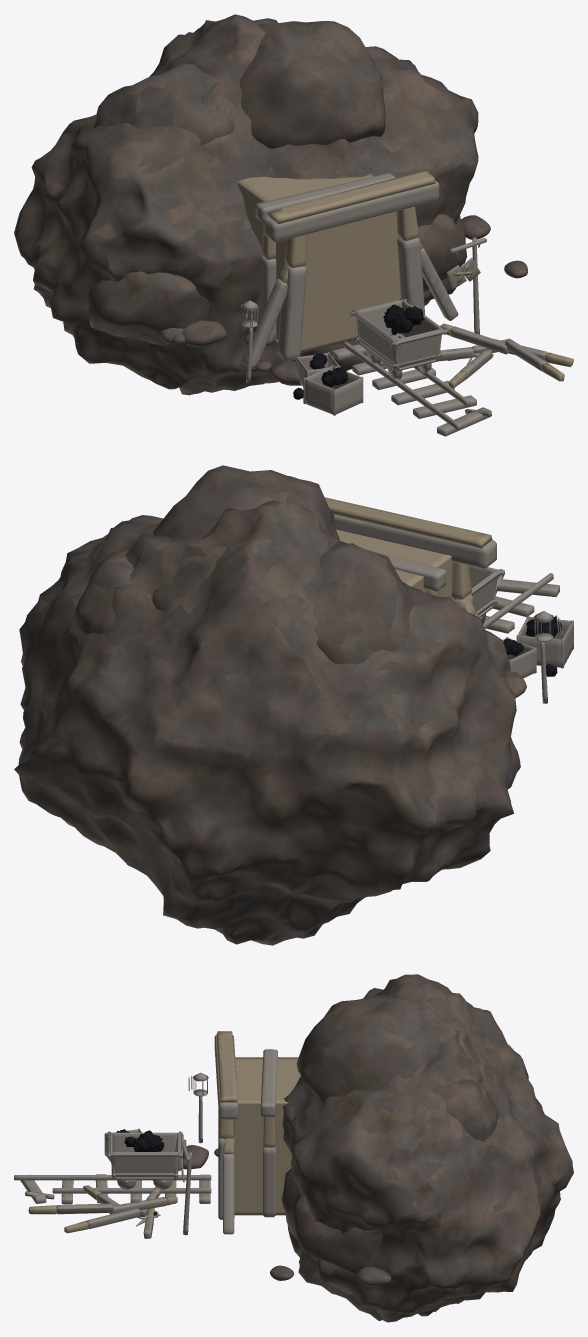
File: mine_head.glb
The picture shows the model from 3 angles, top to bottom: view 1: azimuth 30°, elevation 25°; view 2: azimuth 150°, elevation 25°; view 3: azimuth 270°, elevation 25°; orthographic projection. The views are drawn at different scales.
Parts seen in each view (by area): view 1: mine_head; view 2: mine_head; view 3: mine_head.
Part boxes in pixels (x1,y1,x2,y2): mine_head: (14, 14, 573, 436); mine_head: (14, 465, 573, 945); mine_head: (14, 974, 573, 1322).
Bounding box in the file's own units: 9.78 × 8.39 × 13.05.
5 materials, 5 textured.
